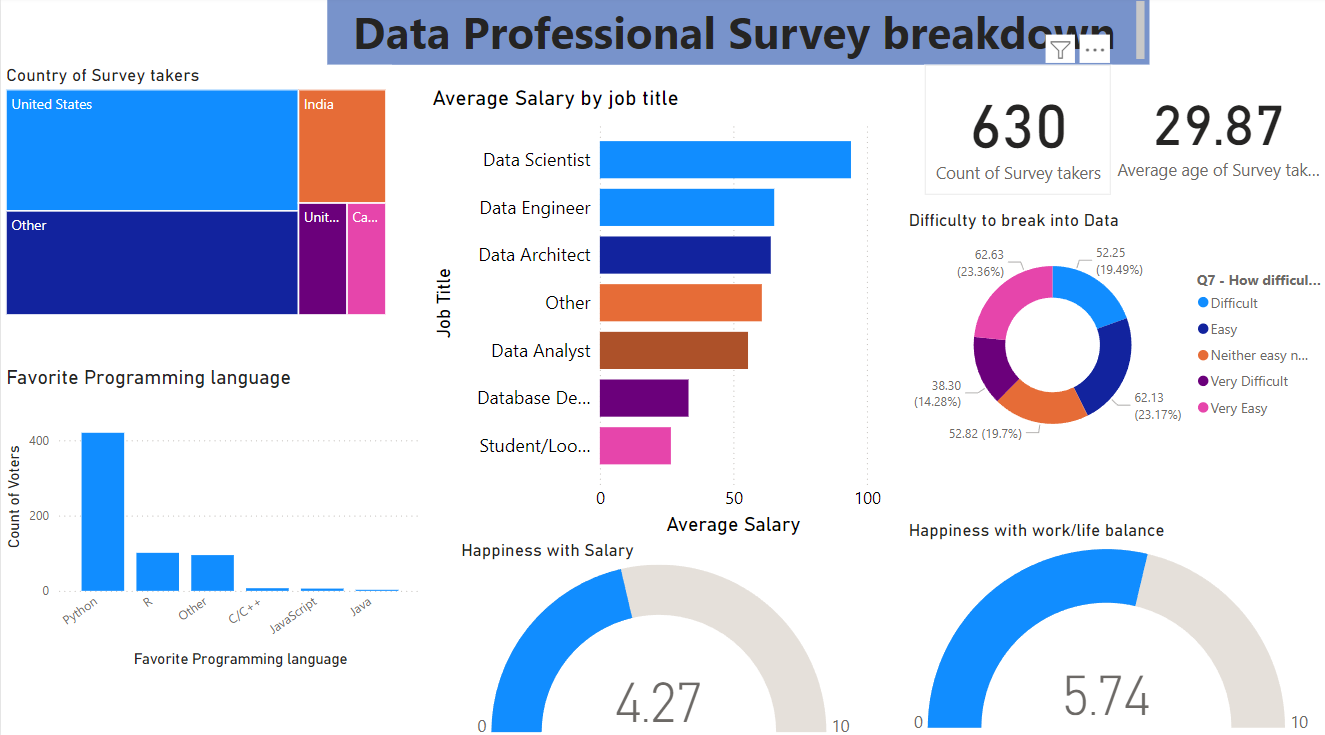

The dashboard page shown, as its layout file describes it:
{"tool":"powerbi","page":{"name":"Page 1","canvas":[1280,720],"ordinal":0},"visuals":[{"type":"textbox","box":[314.9,0,793.8,66.4],"z":0},{"type":"card","fields":{"Values":["Count(Data Professional Survey.Unique ID)"]},"box":[891,65.8,180.9,125.6],"z":1000},{"type":"card","fields":{"Values":["Avg(Data Professional Survey.Q10 - Current Age)"]},"box":[1071.9,65.8,207.8,125.6],"z":2000},{"type":"barChart","title":"Average Salary by job title","fields":{"Category":["Data Professional Survey.Q1 - Which Title Best Fits your Current Role?.1"],"Y":["Avg(Data Professional Survey.Average Salary)"],"Series":["Data Professional Survey.Q1 - Which Title Best Fits your Current Role?.1"]},"box":[411.1,85.2,442.5,439.5],"z":3000},{"type":"clusteredColumnChart","title":"Favorite Programming language","fields":{"Category":["Data Professional Survey.Q5 - Favorite Programming Language.1"],"Y":["CountNonNull(Data Professional Survey.Unique ID)"]},"box":[0,357.3,411.1,296],"z":4000},{"type":"treemap","title":"Country of Survey takers","fields":{"Group":["Data Professional Survey.Q11 - Which Country do you live in?.1"],"Values":["CountNonNull(Data Professional Survey.Q11 - Which Country do you live in?.1)"]},"box":[0,65.8,376.7,246.7],"z":4001},{"type":"gauge","title":"Happiness with work/life balance","fields":{"Y":["Avg(Data Professional Survey.Q6 - How Happy are you in your Current Position with the following? (Work/Life Balance))"],"MinValue":["Min(Data Professional Survey.Q6 - How Happy are you in your Current Position with the following? (Work/Life Balance))"],"MaxValue":["Max(Data Professional Survey.Q6 - How Happy are you in your Current Position with the following? (Work/Life Balance))"]},"box":[871.6,505.3,400.7,215.3],"z":4002},{"type":"gauge","title":"Happiness with Salary","fields":{"Y":["Avg(Data Professional Survey.Q6 - How Happy are you in your Current Position with the following? (Salary))"],"MinValue":["Min(Data Professional Survey.Q6 - How Happy are you in your Current Position with the following? (Salary))"],"MaxValue":["Max(Data Professional Survey.Q6 - How Happy are you in your Current Position with the following? (Salary))1"]},"box":[439.5,524.7,400.7,195.8],"z":4003},{"type":"donutChart","title":"Difficulty to break into Data ","fields":{"Y":["Avg(Data Professional Survey.Average Salary)"],"Series":["Data Professional Survey.Q7 - How difficult was it for you to break into Data?"]},"box":[871.6,206.3,408.1,242.2],"z":4004}]}

Visuals, with their boxes in screenshot pixels (x1, y1, x2, y2), scaled from the page's 1280x720 canvas onto the 1325x735 screenshot:
textbox: bbox=(326, 0, 1148, 68)
card - Count(Data Professional Survey.Unique ID): bbox=(922, 67, 1110, 195)
card - Avg(Data Professional Survey.Q10 - Current Age): bbox=(1110, 67, 1324, 195)
"Average Salary by job title" barChart: bbox=(426, 87, 884, 536)
"Favorite Programming language" clusteredColumnChart: bbox=(0, 365, 426, 667)
"Country of Survey takers" treemap: bbox=(0, 67, 390, 319)
"Happiness with work/life balance" gauge: bbox=(902, 516, 1317, 734)
"Happiness with Salary" gauge: bbox=(455, 536, 870, 734)
"Difficulty to break into Data " donutChart: bbox=(902, 211, 1324, 458)
